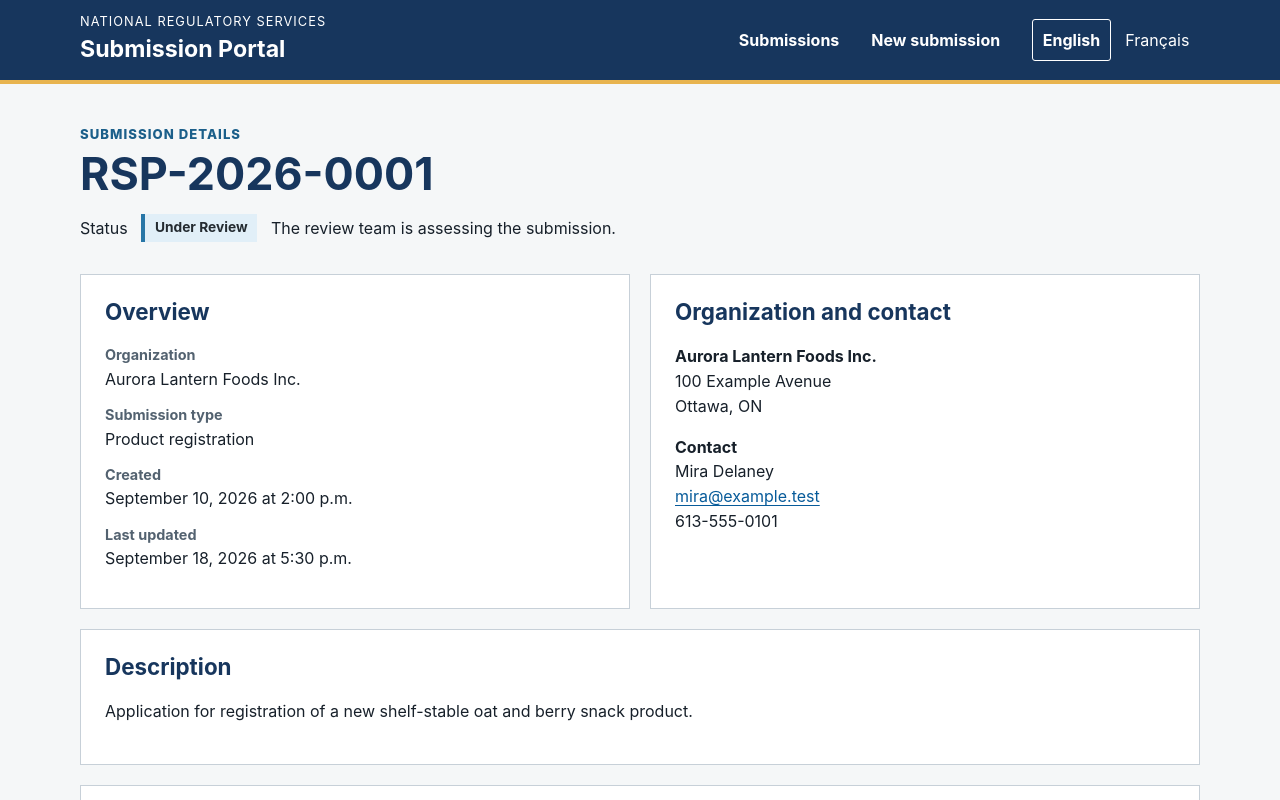
Test: Regulatory Submission Portal › switches submission details and navigation between English and French
This screenshot has width=1280, height=800.
Expected: the element named "Language / Langue" is shown, [1032,16,1200,64]
Click the button "Français" at (1157, 40), box [1115,19,1200,61]
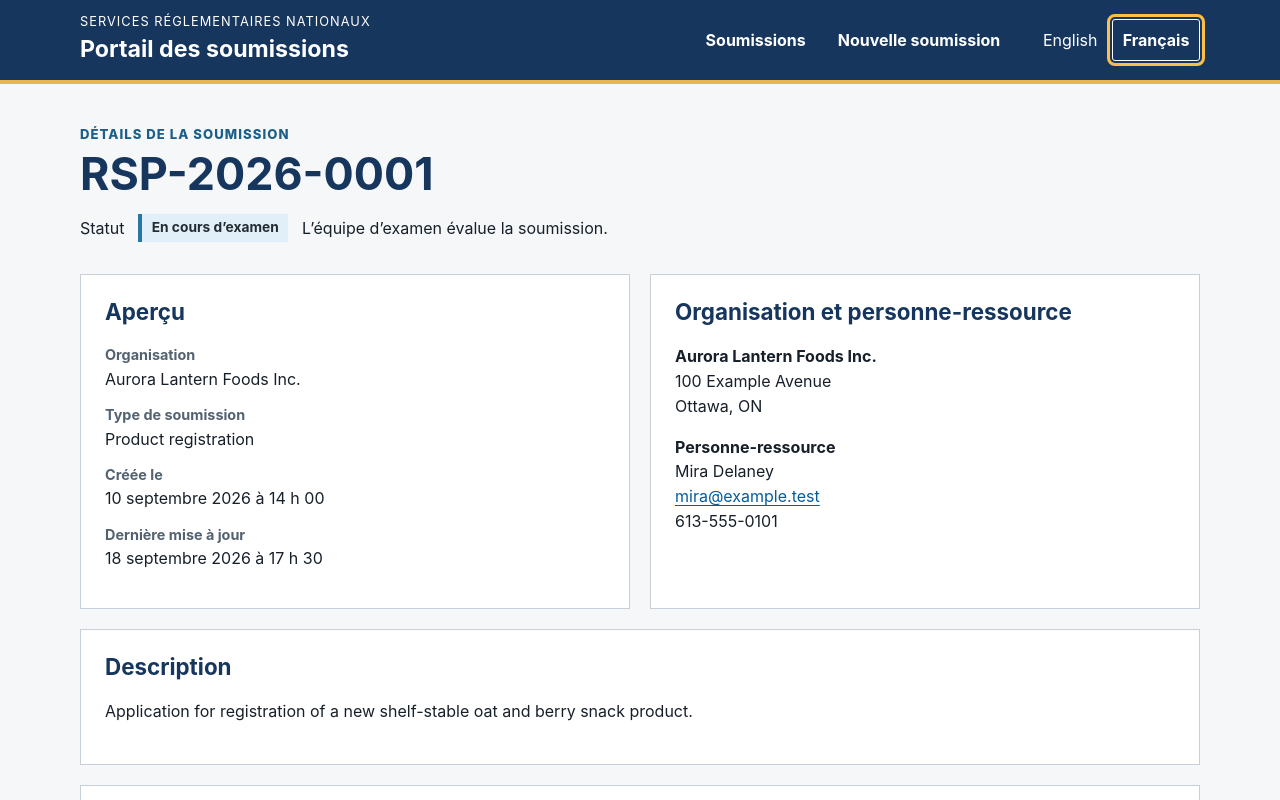
Expected: the heading "Aperçu" is shown, [105,298,185,325]
Expected: the heading "Organisation et personne-ressource" is shown, [675,298,1072,325]
Expected: the text "Dernière mise à jour" is shown, [105,526,245,543]
Click the button "English" at (1070, 40), box [1032,19,1108,61]
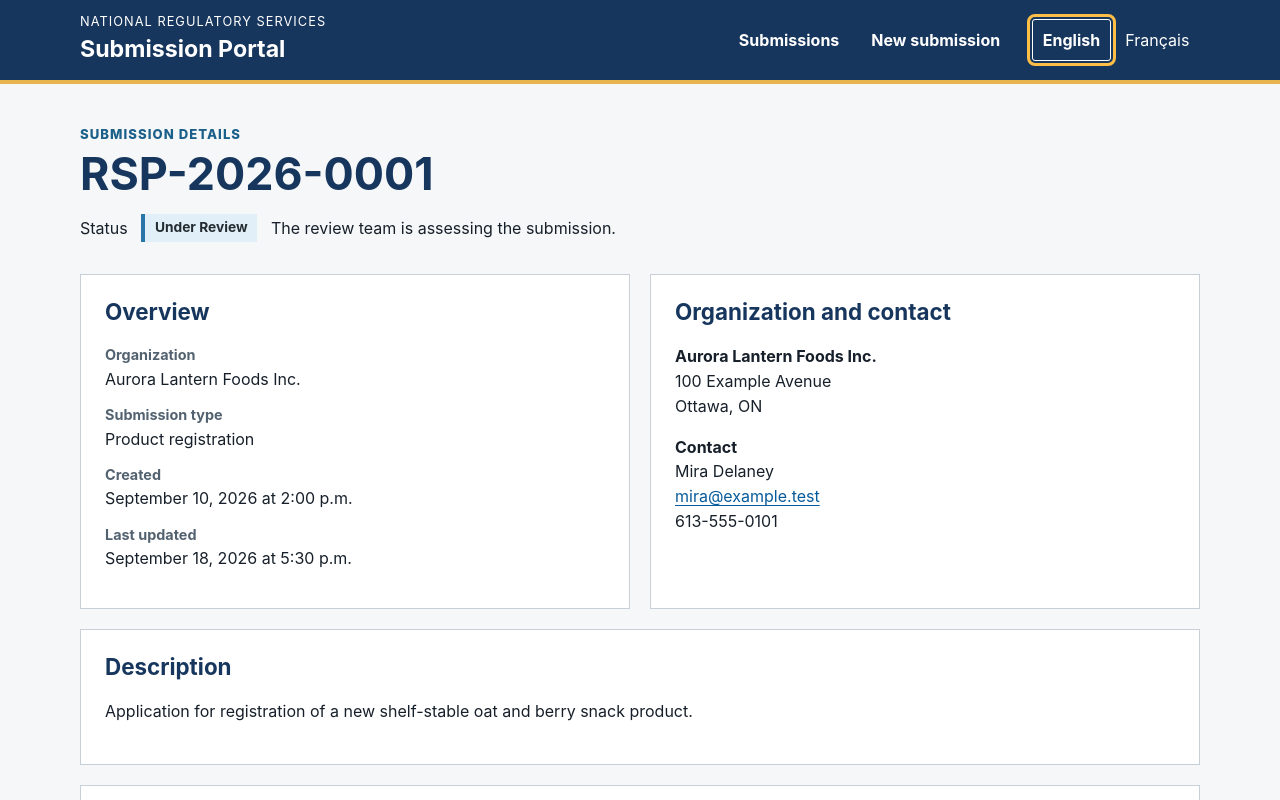
Expected: the heading "Overview" is shown, [105,298,210,325]
Expected: the navigation bar named "Primary navigation" shows "Submissions", [723,16,855,64]
